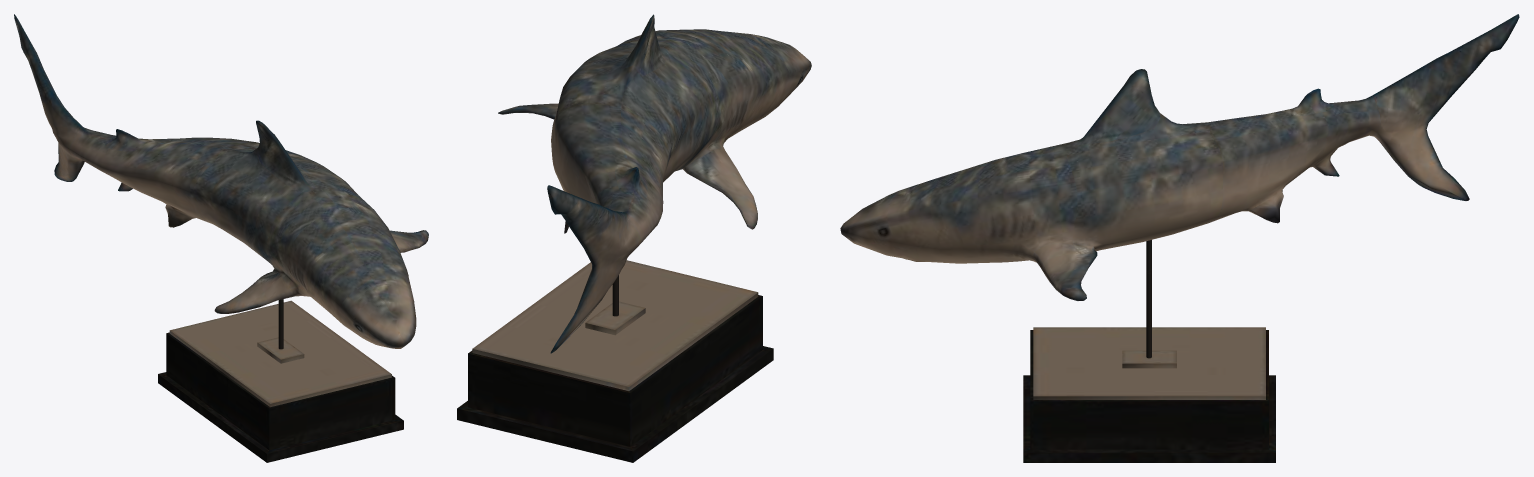
The model's file is bronze_shark.glb.
3 views of the same model, side by side, from view 1: azimuth 30°, elevation 25°; view 2: azimuth 150°, elevation 25°; view 3: azimuth 270°, elevation 25° (orthographic). The views are drawn at different scales.
Visible parts, largest first — view 1: bronze_shark_statue; view 2: bronze_shark_statue; view 3: bronze_shark_statue.
Part boxes in pixels (<box>): bronze_shark_statue: <box>14,14,428,462</box>; bronze_shark_statue: <box>457,14,811,462</box>; bronze_shark_statue: <box>840,14,1519,462</box>.
Size of the model in its own units: 0.352 by 0.4316 by 0.7598.
1 material, 1 textured.
